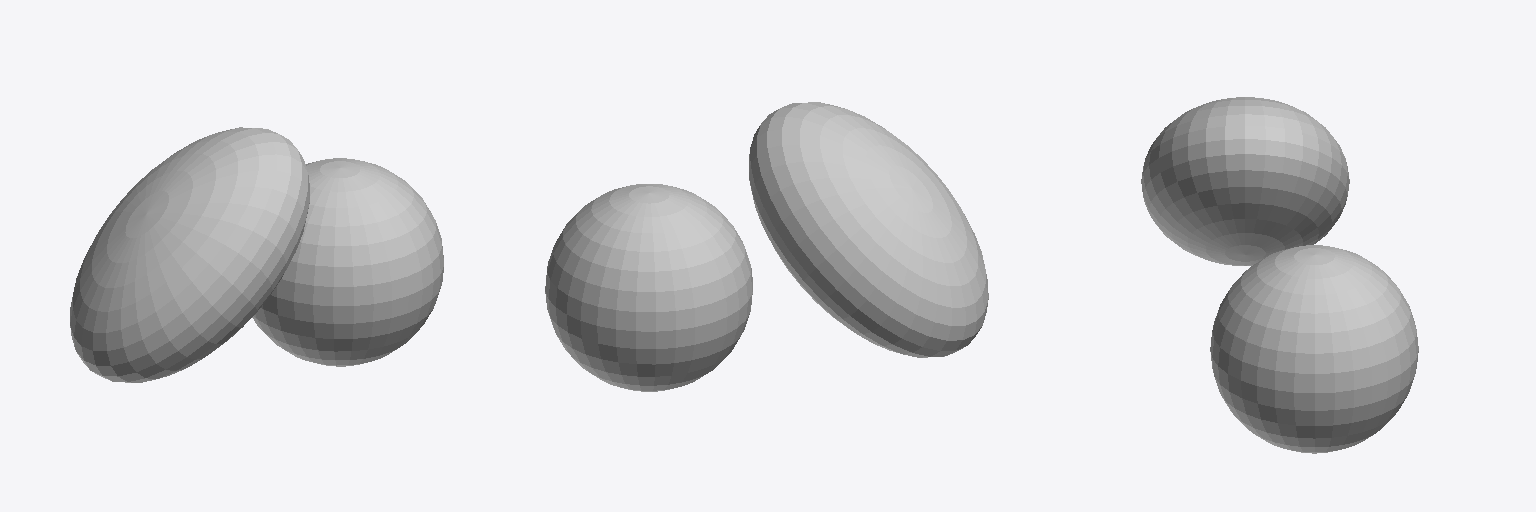
File: spheres.obj
The picture shows the model from 3 angles: view 1: azimuth 30°, elevation 25°; view 2: azimuth 150°, elevation 25°; view 3: azimuth 270°, elevation 25°; orthographic projection.
Parts seen in each view (by area): view 1: Sphere.001, Sphere; view 2: Sphere.001, Sphere; view 3: Sphere, Sphere.001.
Part boxes in pixels (x1,y1,x2,y2): Sphere.001: (70,127,309,382); Sphere: (252,158,443,366); Sphere.001: (749,102,988,357); Sphere: (545,184,752,391); Sphere: (1210,245,1418,453); Sphere.001: (1141,97,1349,265).
Size of the model in its own units: 4.25 by 2.93 by 2.66.